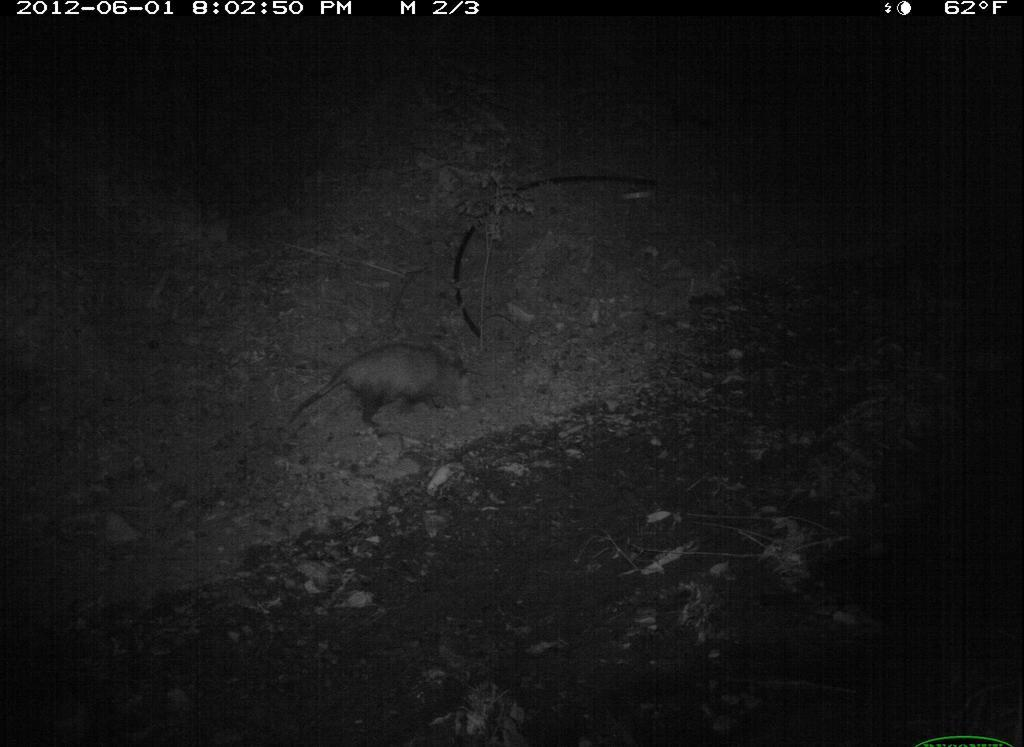opossum: (285, 335, 488, 439)
